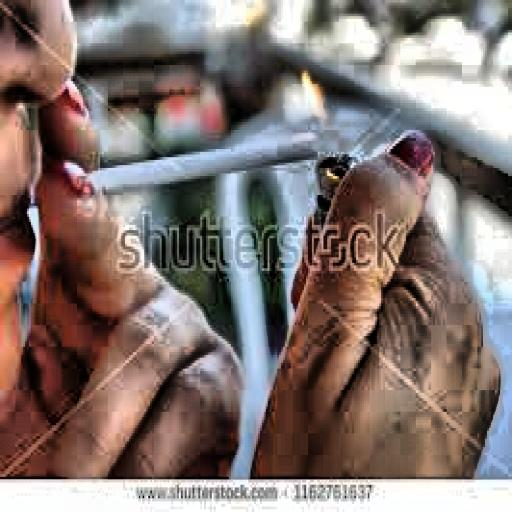fire: (279, 62, 354, 160)
